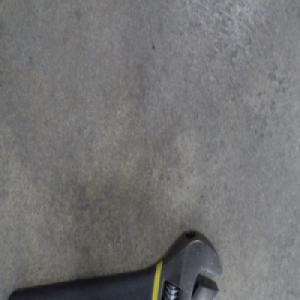AdjustableWrench: (11, 227, 227, 299)
